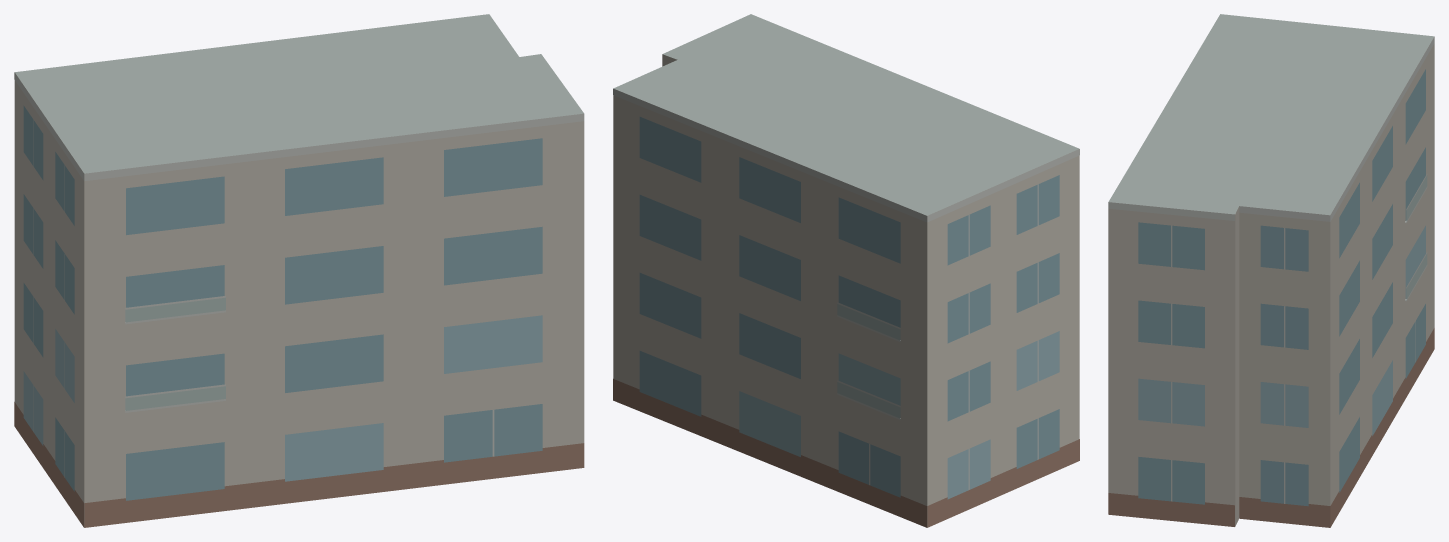
The model's file is survey-upis-32942558.glb.
The picture shows the model from 3 angles, left to right: view 1: azimuth 30°, elevation 25°; view 2: azimuth 150°, elevation 25°; view 3: azimuth 270°, elevation 25°; orthographic projection. The views are drawn at different scales.
Visible parts, largest first — view 1: survey-upis-32942558.tmp; view 2: survey-upis-32942558.tmp; view 3: survey-upis-32942558.tmp.
Part boxes in pixels (bbox=[...]): survey-upis-32942558.tmp: bbox=[14, 14, 584, 527]; survey-upis-32942558.tmp: bbox=[613, 14, 1079, 527]; survey-upis-32942558.tmp: bbox=[1108, 14, 1434, 527].
Bounding box in the file's own units: 15.89 × 11.5 × 10.89.
